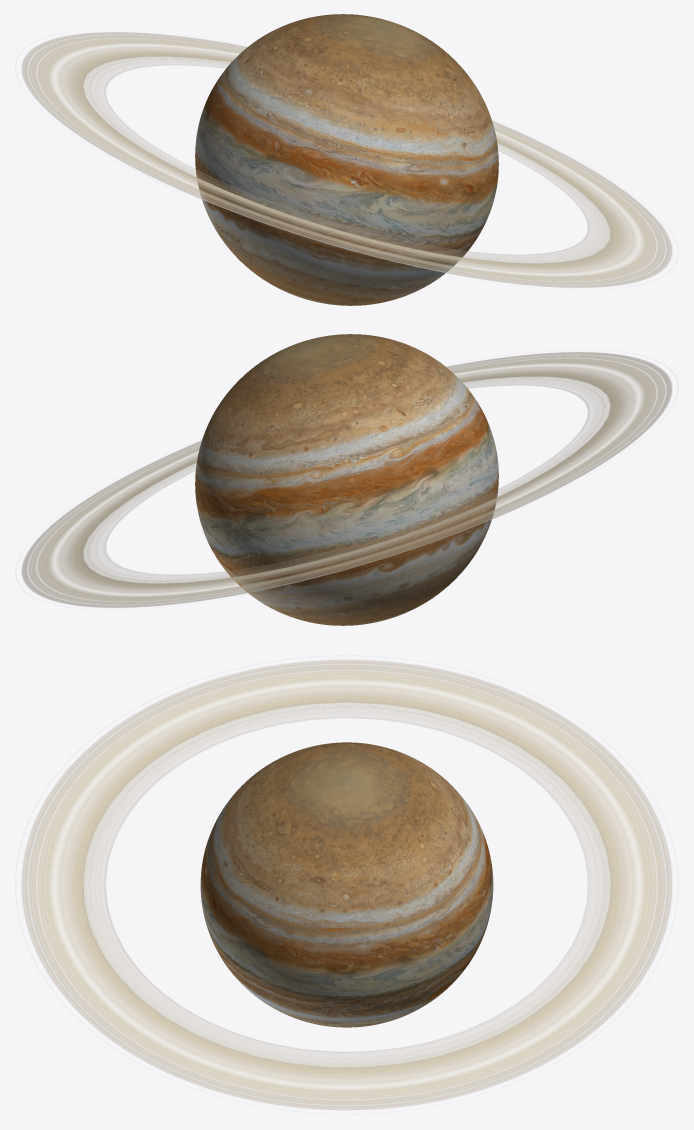
Rendered from jupiter.glb.
The picture shows the model from 3 angles, top to bottom: view 1: azimuth 30°, elevation 25°; view 2: azimuth 150°, elevation 25°; view 3: azimuth 270°, elevation 25°; orthographic projection. The views are drawn at different scales.
Visible parts, largest first — view 1: Surface, Rings; view 2: Surface, Rings; view 3: Rings, Surface.
Part boxes in pixels (<box>): Surface: <box>195,14,498,305</box>; Rings: <box>22,32,672,287</box>; Surface: <box>195,334,498,625</box>; Rings: <box>21,352,671,607</box>; Rings: <box>16,660,672,1109</box>; Surface: <box>200,742,493,1027</box>.
Size of the model in its own units: 4.31 by 1.91 by 4.55.
2 materials, 2 textured.
